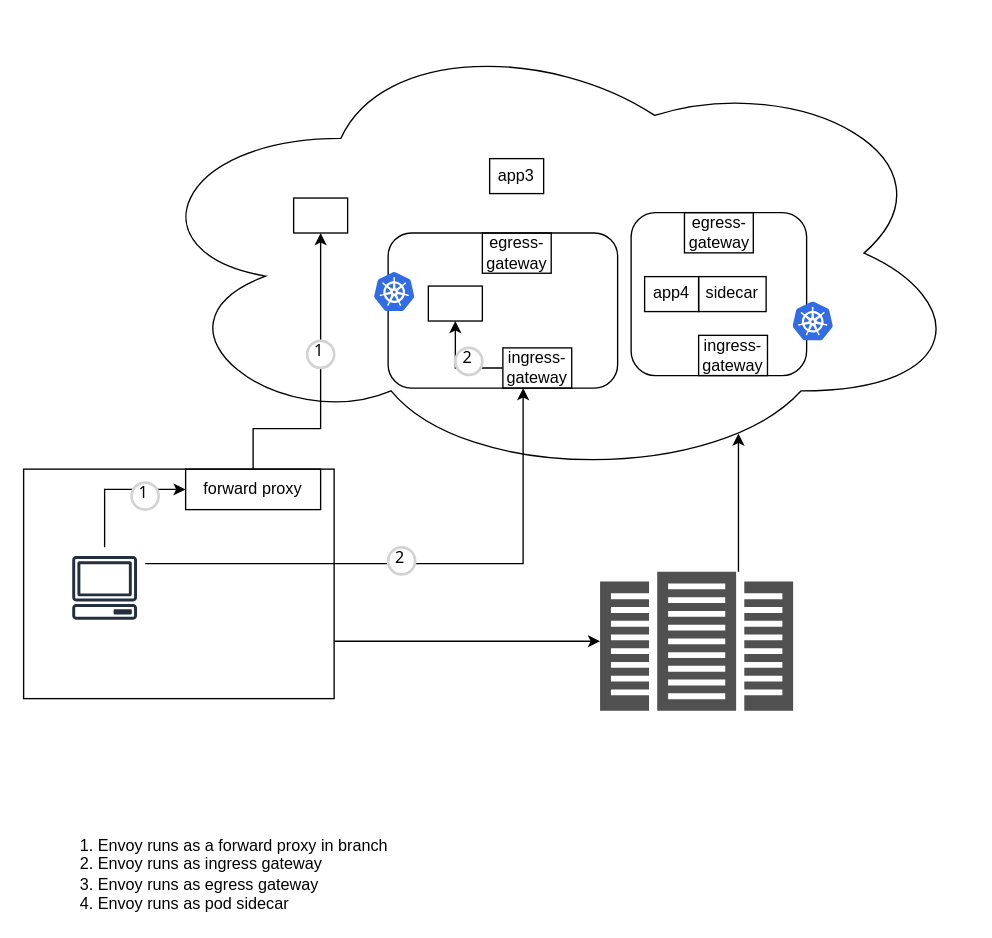
Some shapes in this 992 by 938 pixel diagram are drawn without their labels. Here are the shapes that lost their labels. From the top down, the box of each, then its label:
(292, 197, 348, 233): app1
(427, 285, 482, 321): app2
(63, 546, 145, 628): Client
(22, 468, 334, 699): Branch
